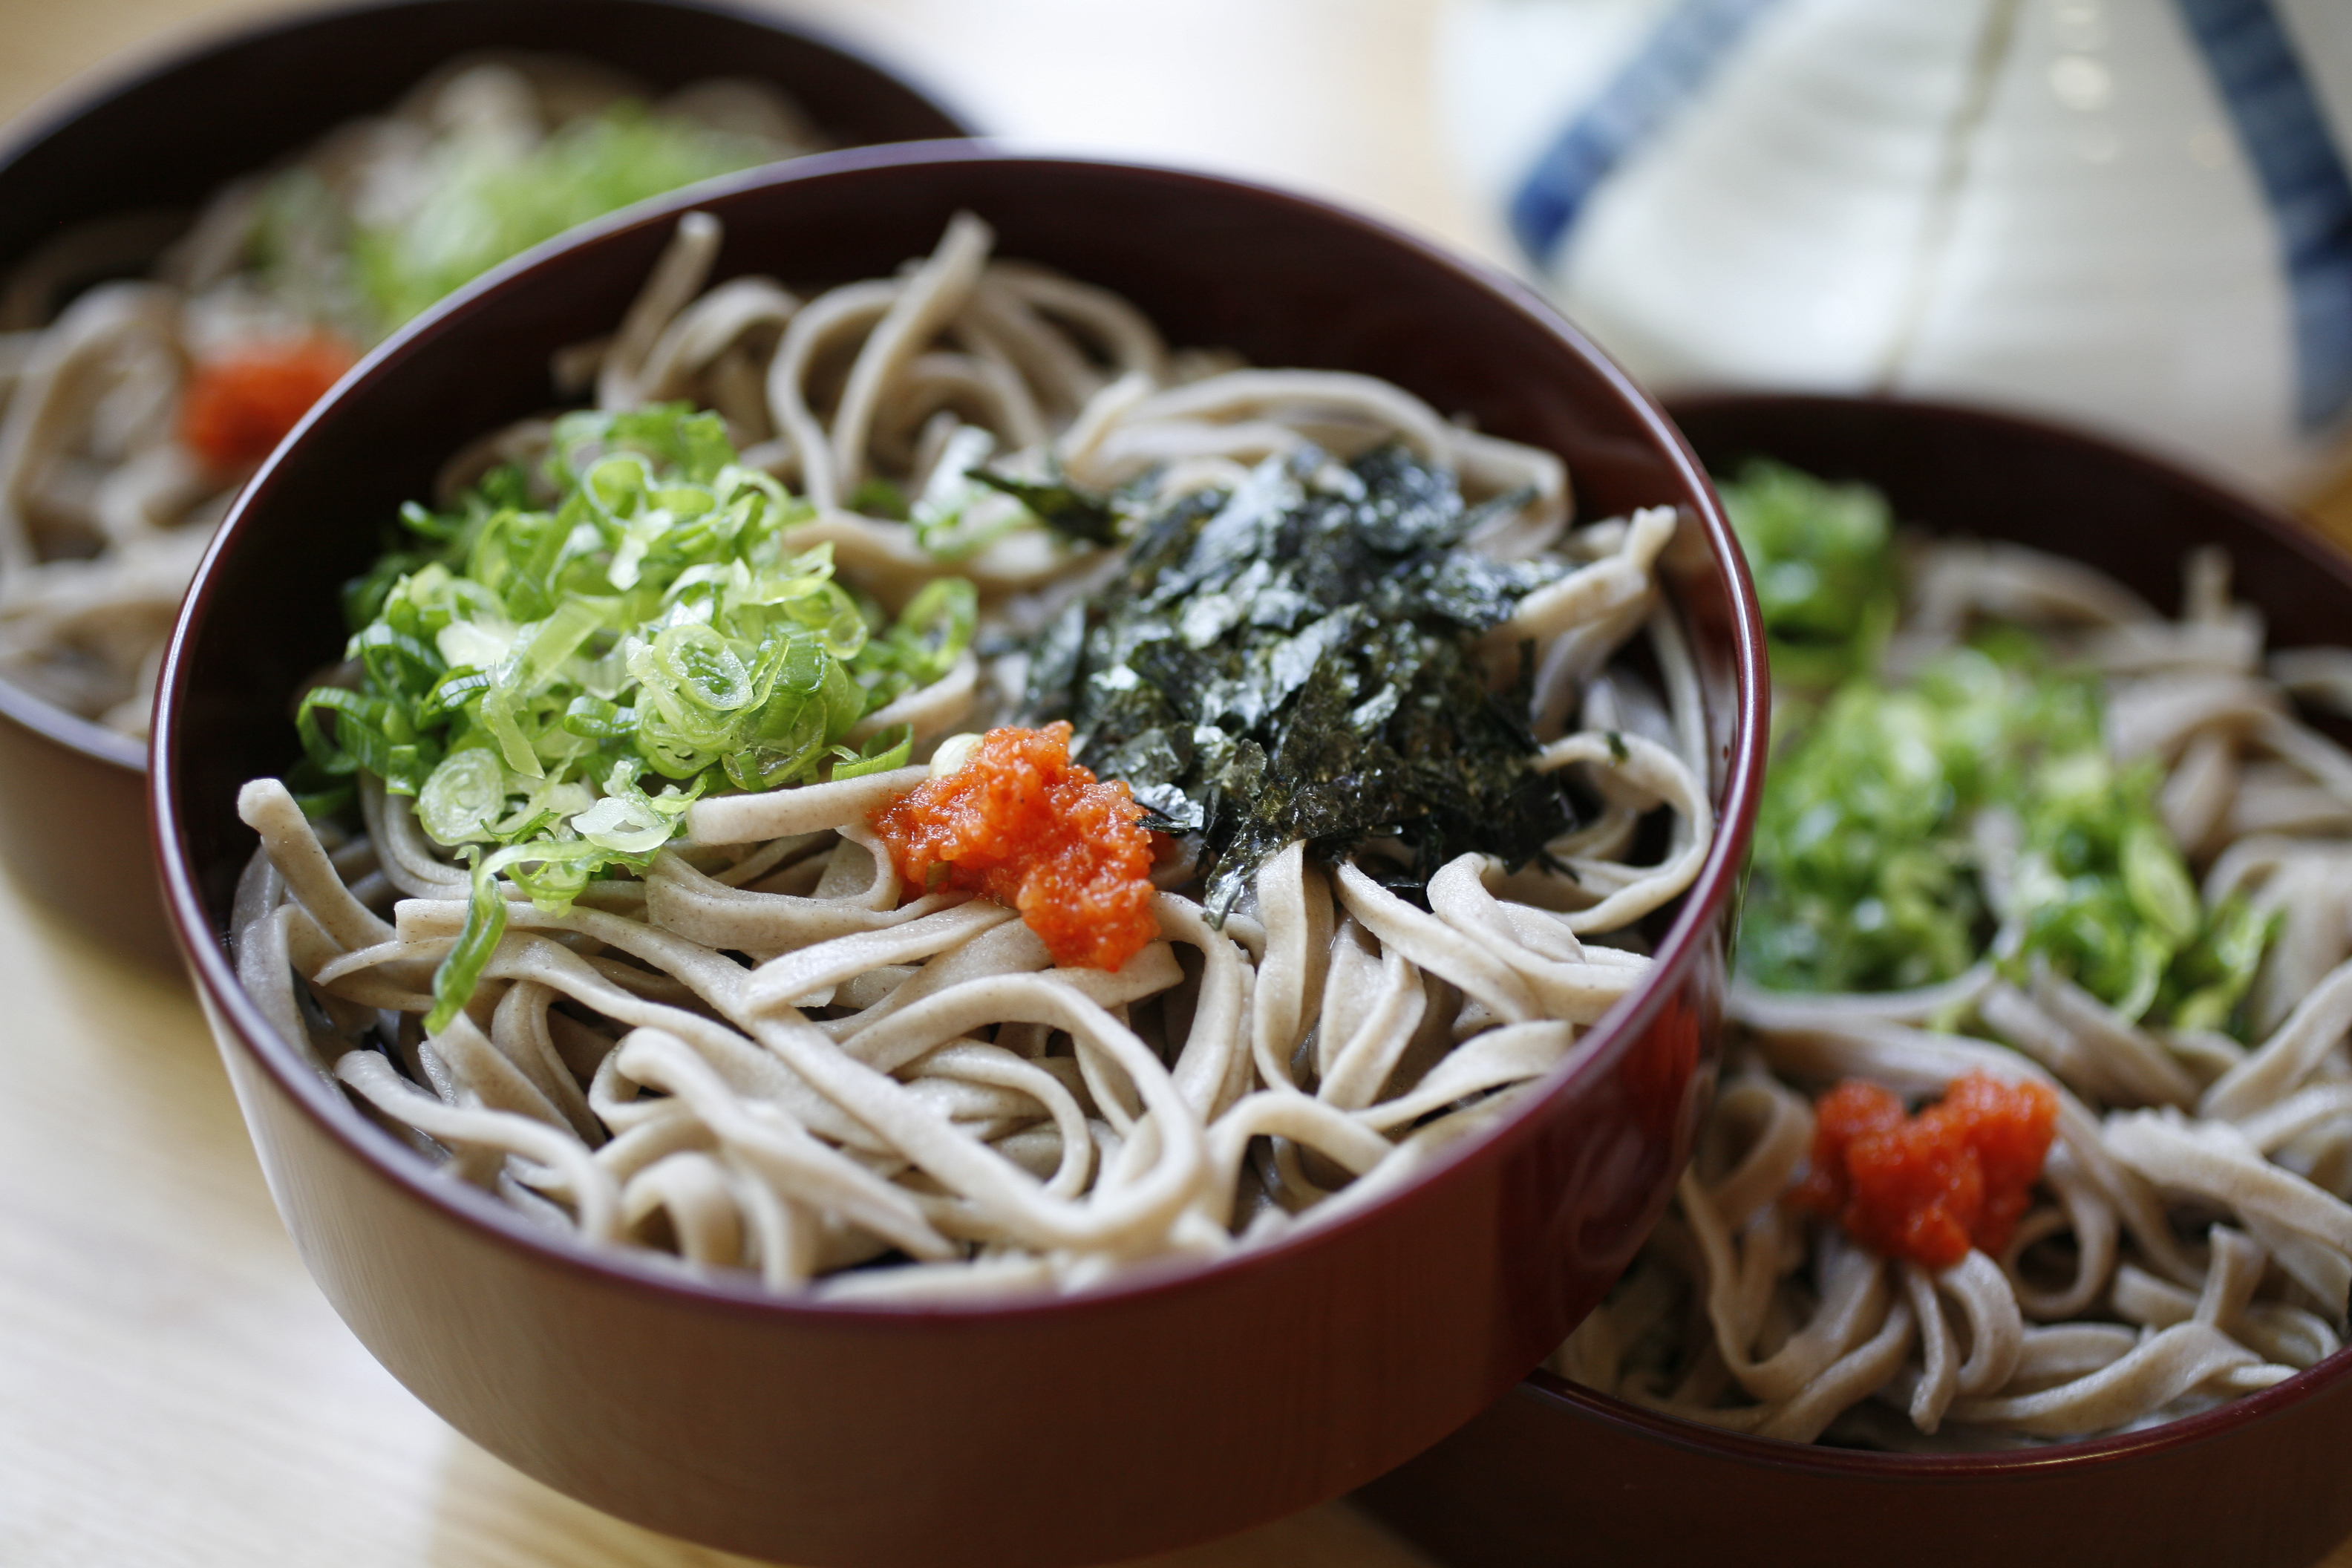Soba: (257, 229, 1703, 1288), (1759, 523, 2352, 1459)
